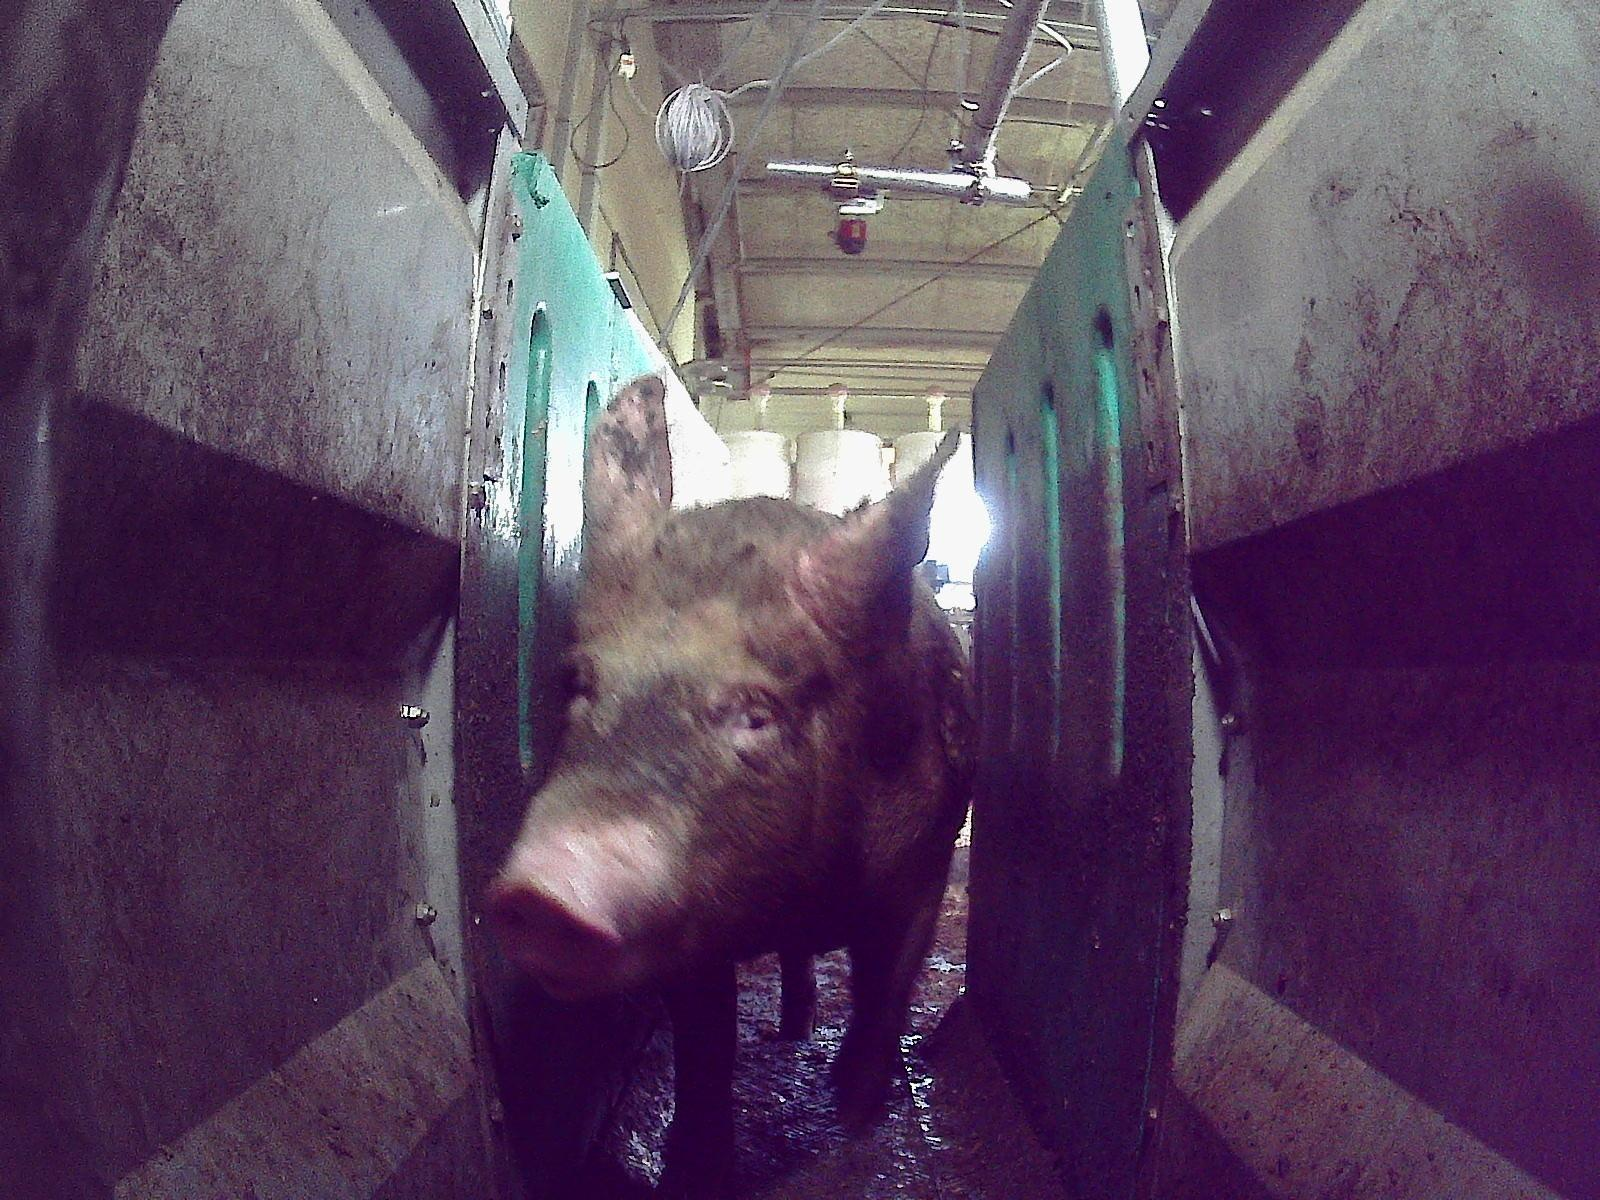Face: (481, 511, 844, 997)
